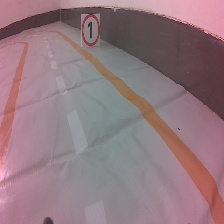limit: (79, 11, 103, 51)
